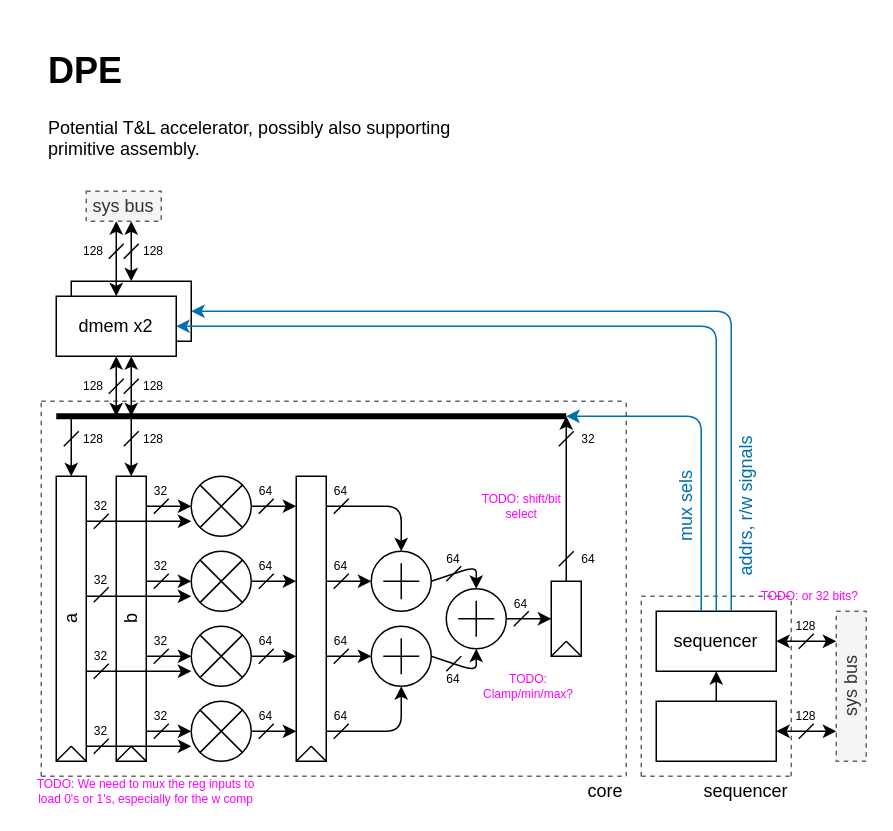
Image size: 893x831. Some labels were removed from this diagram. The centre of each missing label's shape, as x and y in pixels:
"imem" belongs at point (715, 730).
"product" belongs at point (310, 618).
"sum" belongs at point (565, 618).
